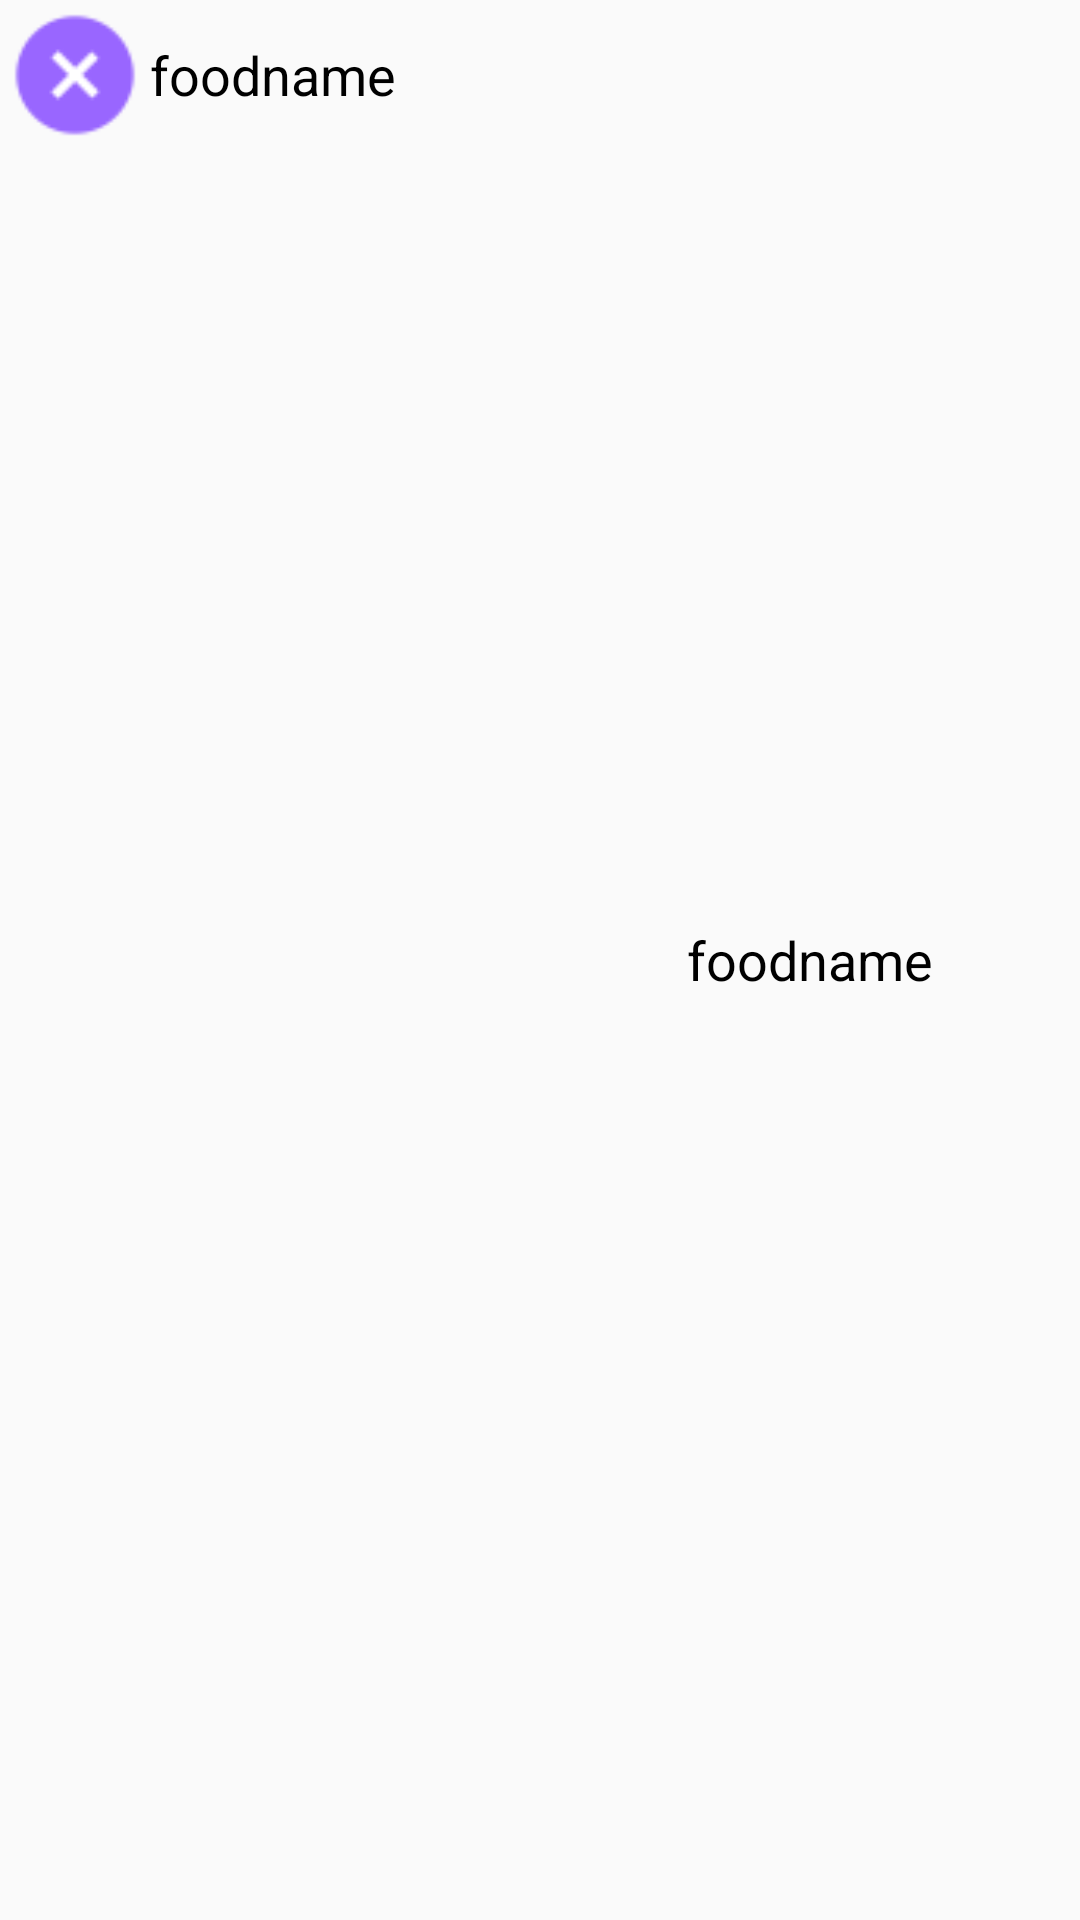

Named icons in this screenshot (1080×1920) and their bounding boxes, [left=x1, top=y1, right=x2, bottom=y2]:
close: [left=15, top=15, right=135, bottom=135]
